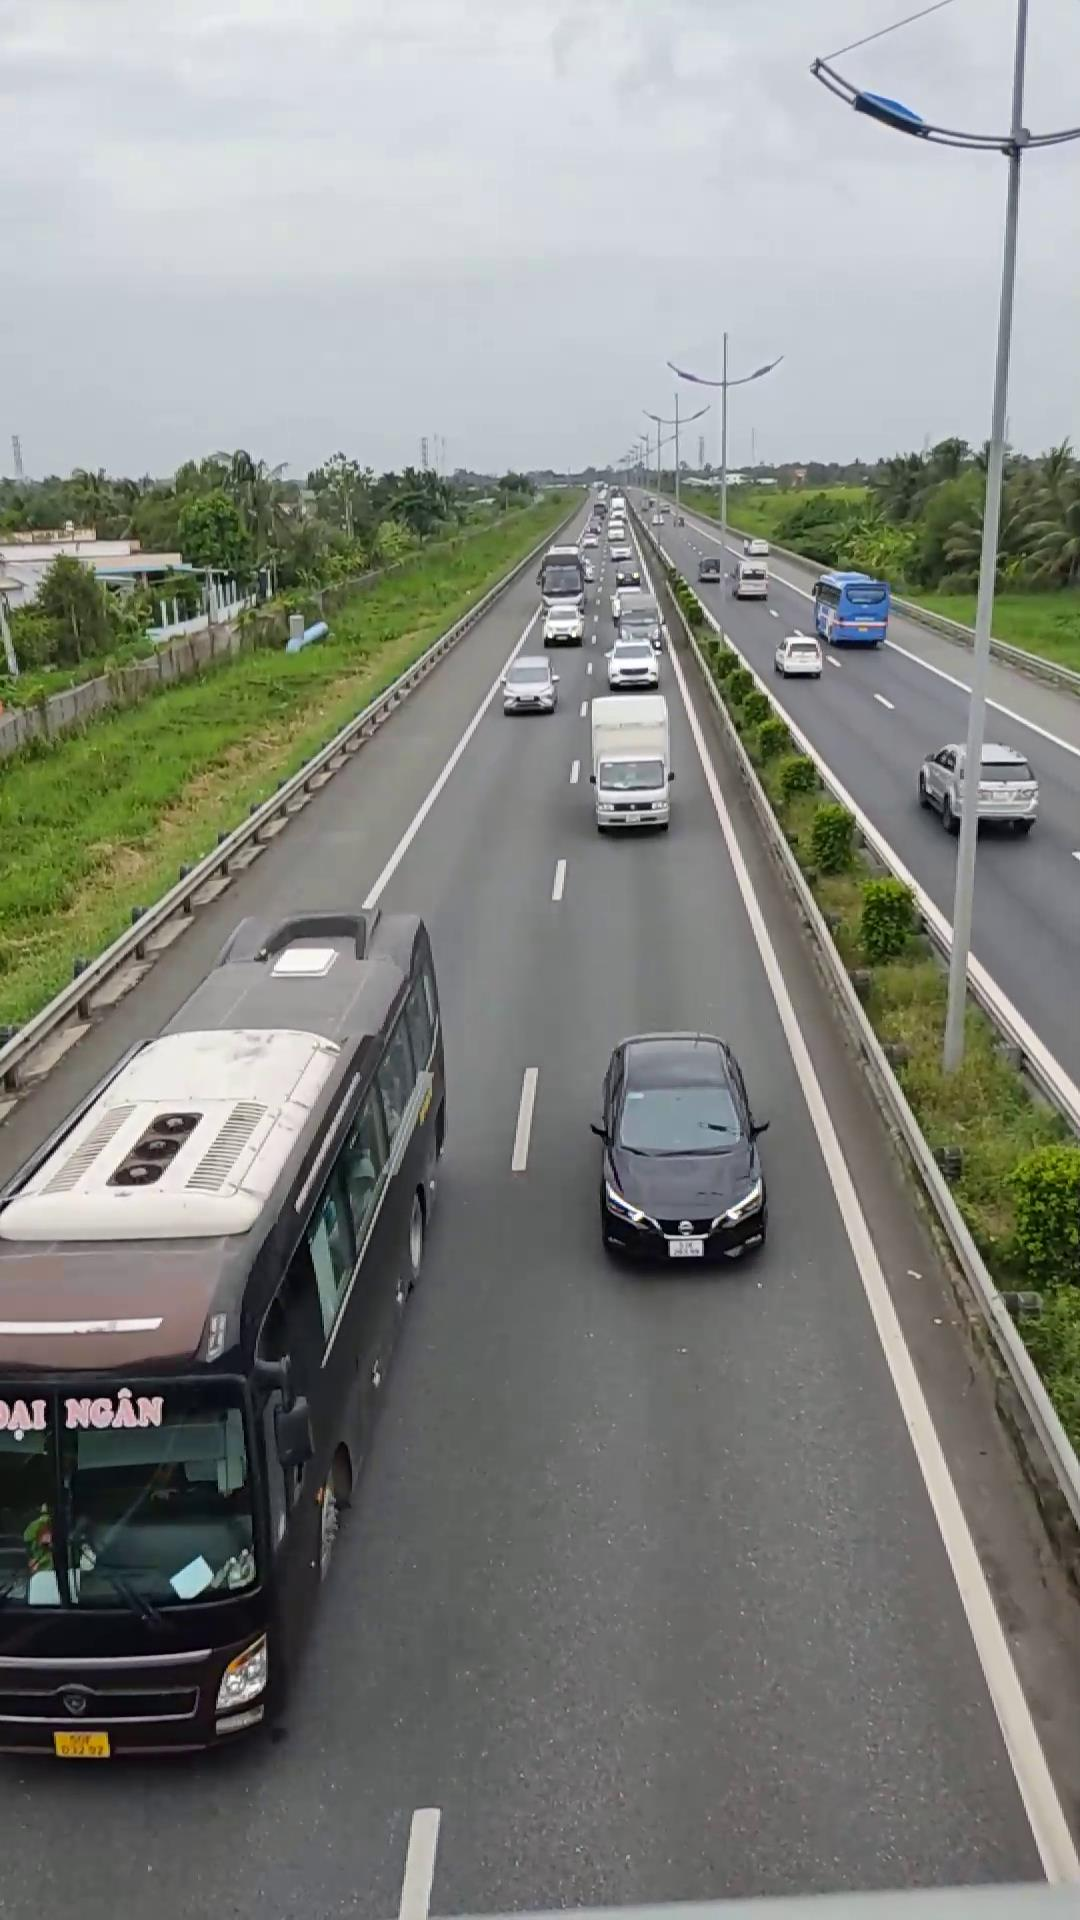bus: (0, 910, 450, 1760)
car: (588, 1030, 771, 1269), (916, 742, 1040, 836)
truck: (582, 692, 678, 832)
